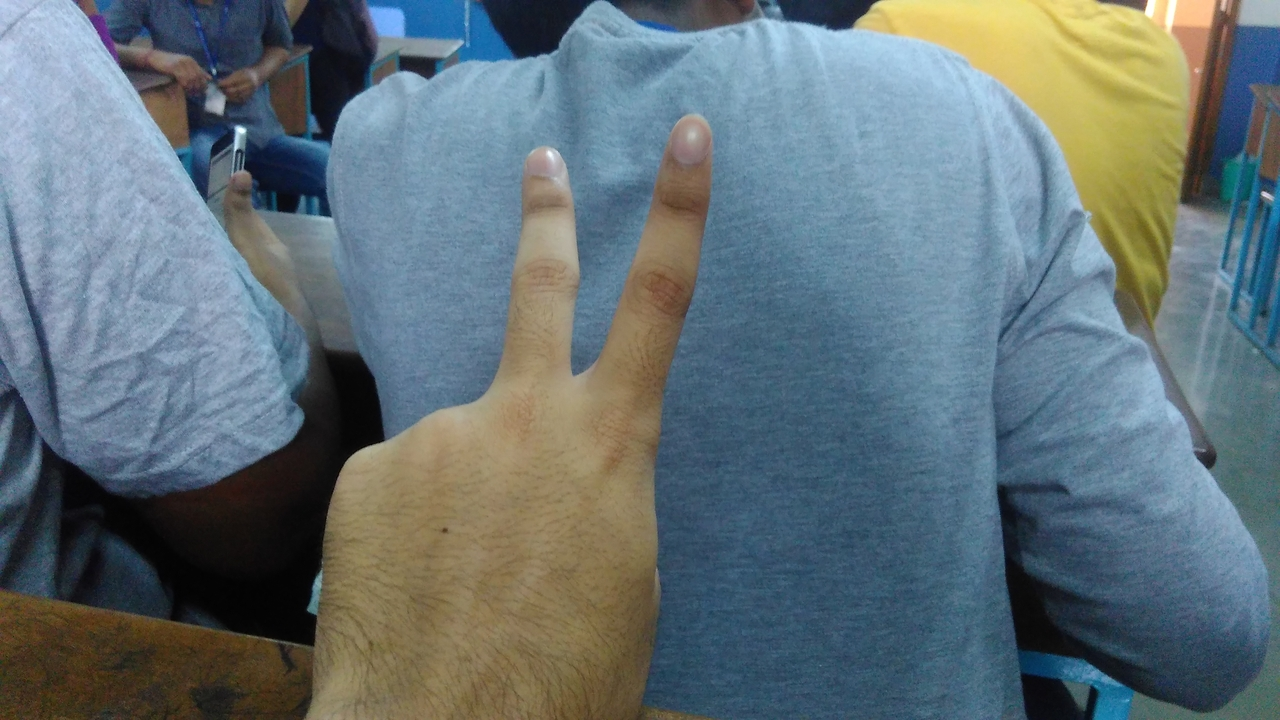fingertip: (516, 138, 576, 198), (656, 110, 718, 168)
